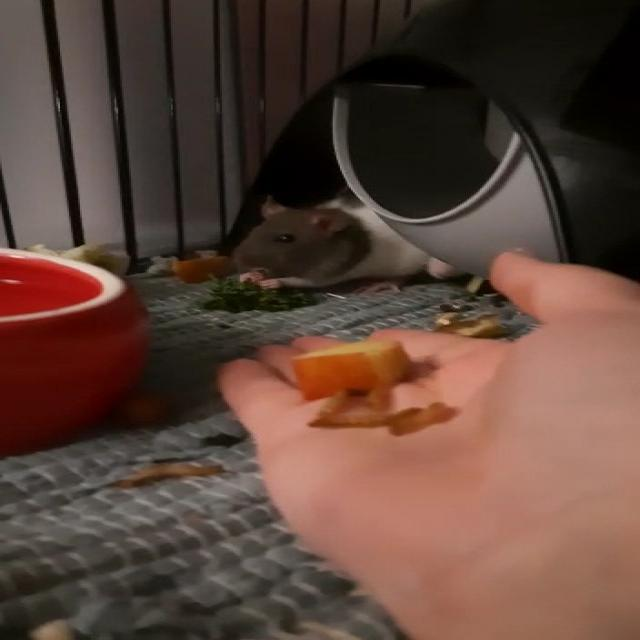rat: (226, 186, 464, 296)
